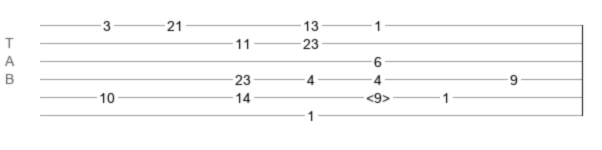1: (307, 108, 315, 118), (374, 18, 382, 28), (442, 90, 450, 100)
10: (99, 90, 115, 100)
11: (235, 36, 251, 46)
13: (303, 18, 319, 28)
14: (235, 90, 251, 100)
21: (167, 18, 183, 28)
23: (235, 72, 251, 82), (303, 36, 319, 46)
3: (103, 18, 111, 28)
4: (307, 72, 315, 82), (374, 72, 382, 82)
6: (374, 54, 382, 64)
9: (510, 72, 518, 82)
harmonic: (366, 90, 390, 100)
